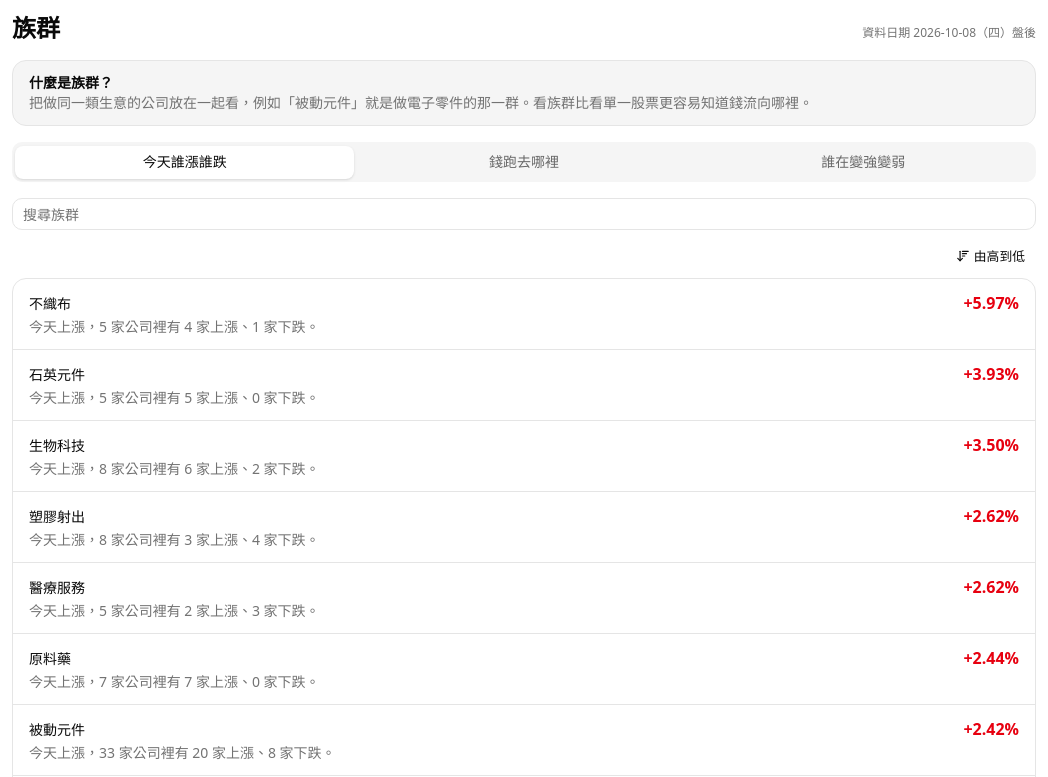
Test case: SectorsScreen › explains a digest with no quadrant section
Click the tab "誰在變強變弱". click: [863, 162]
box: top-left (694, 146), bottom-right (1033, 178)
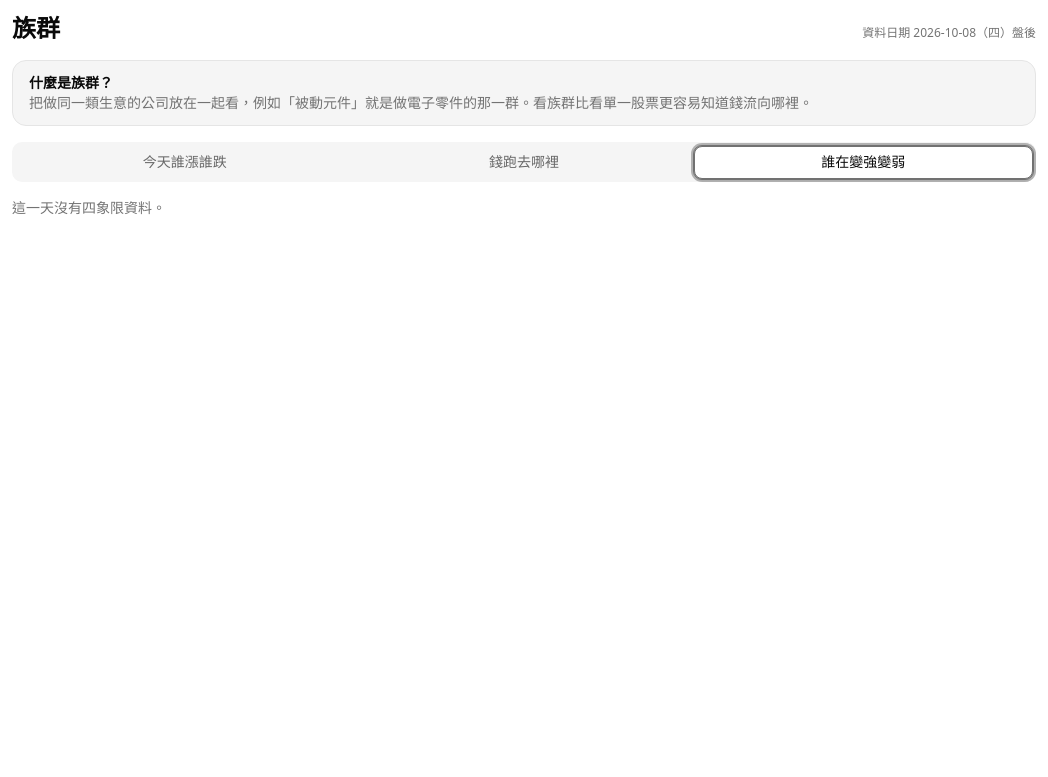
Expected: the text "這一天沒有四象限資料。" is shown, top-left (12, 198), bottom-right (166, 217)
